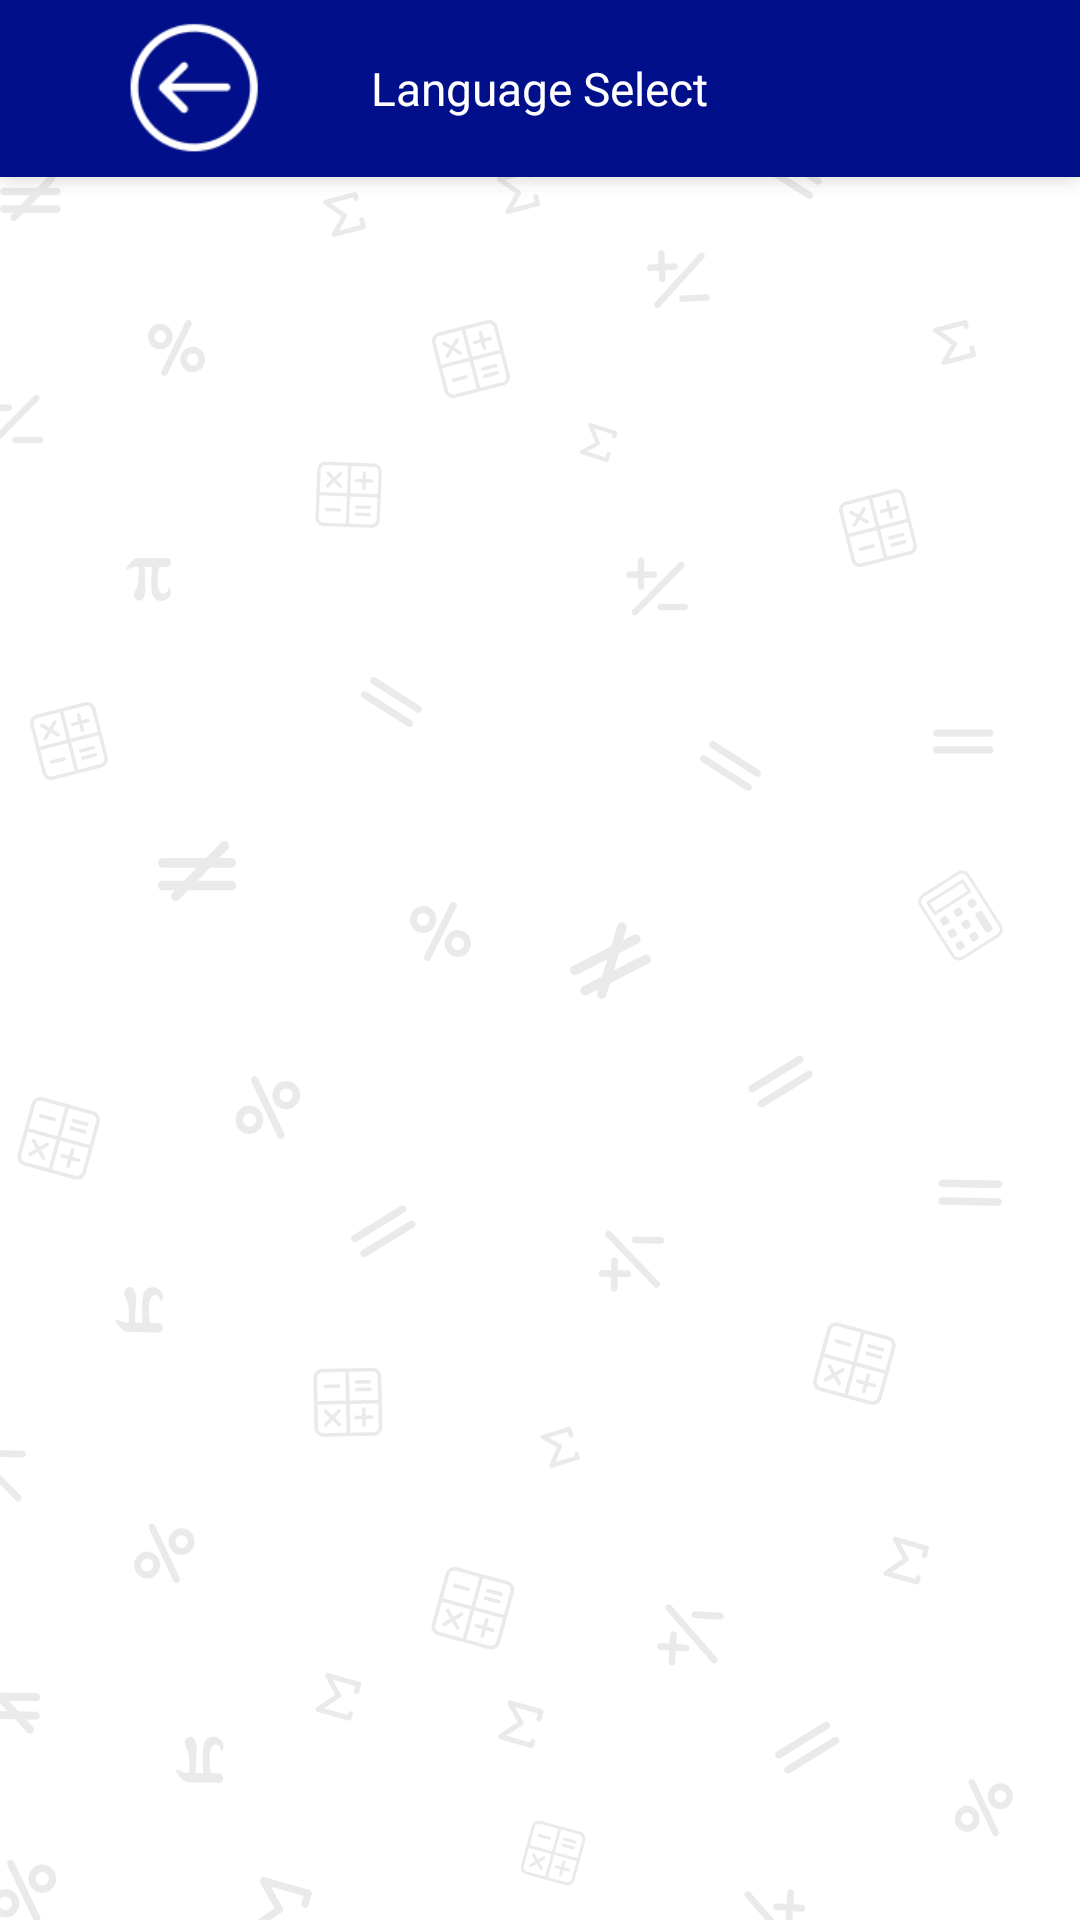

Named icons in this screenshot (1080×1920) and their bounding boxes, [x1,y1,x2,y2]:
back: [130,23,258,152]
